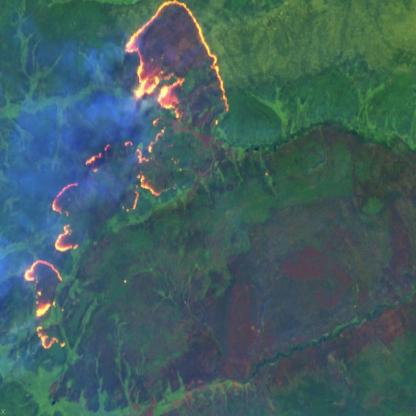fire: (21, 0, 232, 354)
